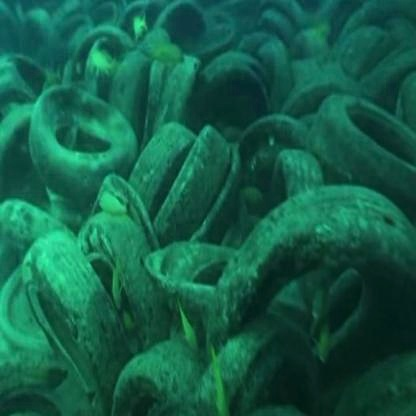tire: (217, 203, 397, 386), (44, 208, 162, 363), (84, 82, 206, 231), (319, 76, 416, 231), (15, 86, 121, 207), (198, 56, 291, 155)
